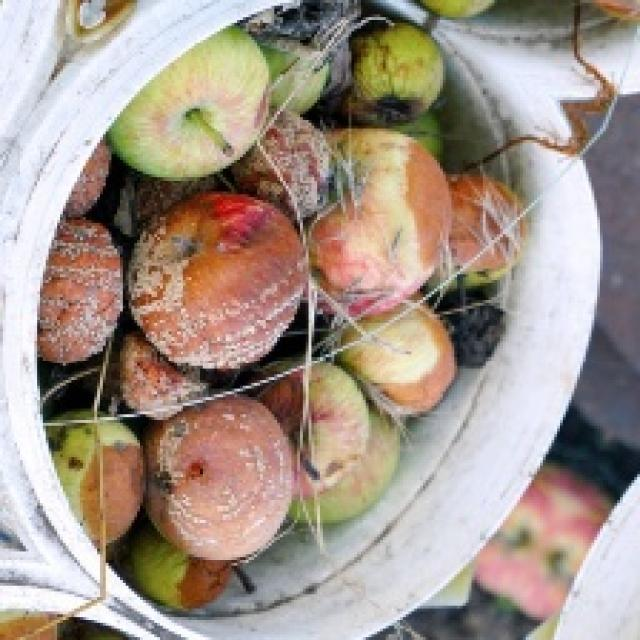rotten_apple: (142, 197, 306, 361), (311, 128, 452, 278), (158, 401, 292, 557), (43, 415, 146, 537), (346, 306, 460, 409), (44, 226, 124, 359), (356, 29, 446, 121), (458, 176, 522, 285), (138, 546, 227, 608)
